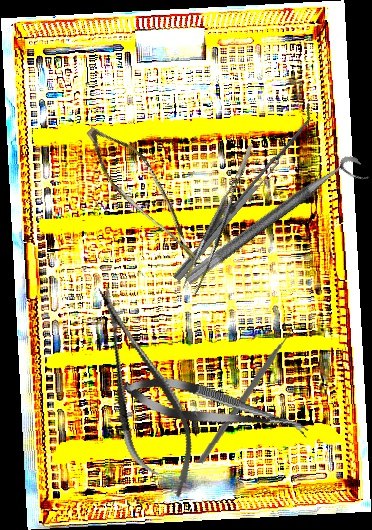Chopper: (196, 323, 308, 469)
Fixation Ring: (182, 151, 371, 300)
Micro Scissor: (74, 274, 212, 509), (65, 118, 232, 270), (119, 368, 313, 448)
Spatula Surgical: (166, 102, 321, 282)
Tissue Forceps: (168, 143, 277, 297)
